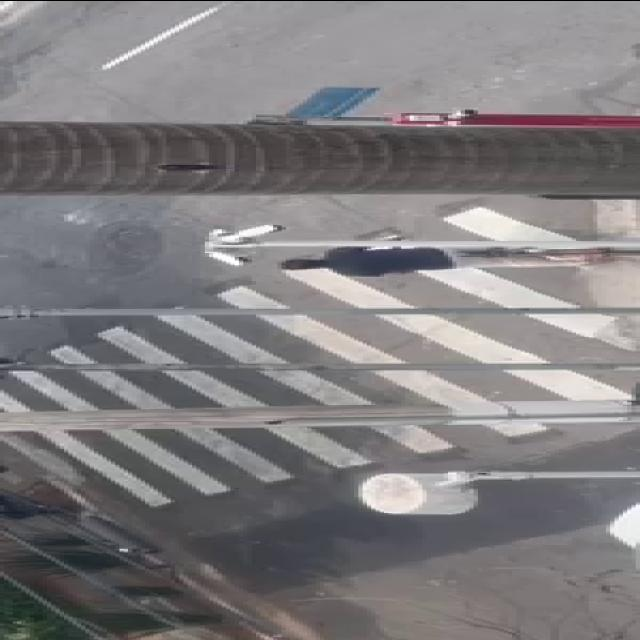bicycle: (280, 235, 640, 286)
